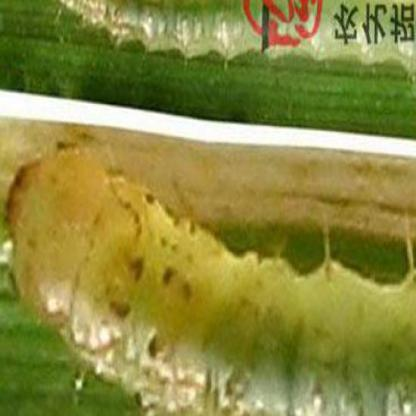leaf-folder: (6, 129, 415, 416)
